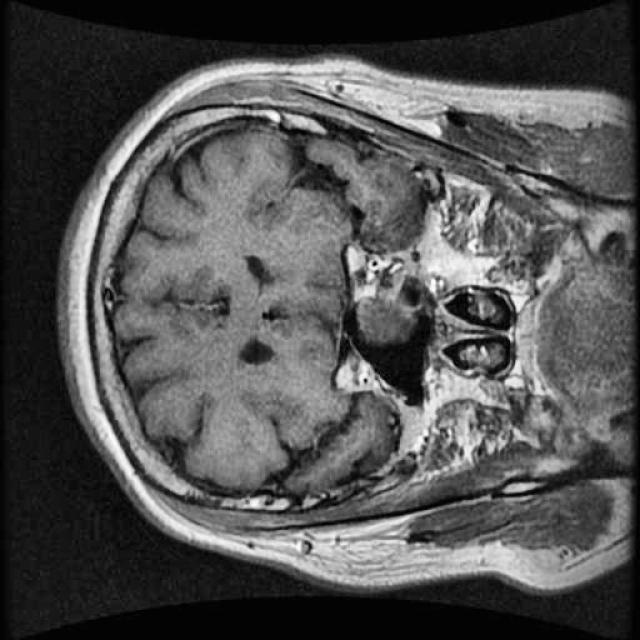Tumor: (331, 280, 425, 352)
